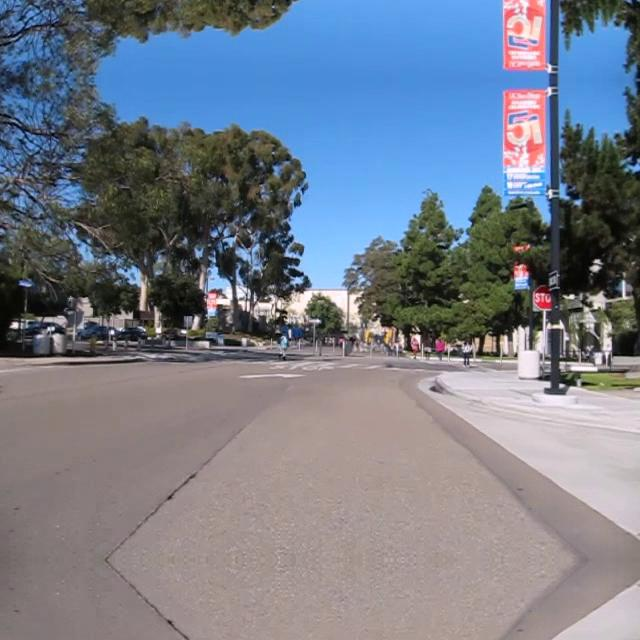stop: (532, 283, 558, 311)
